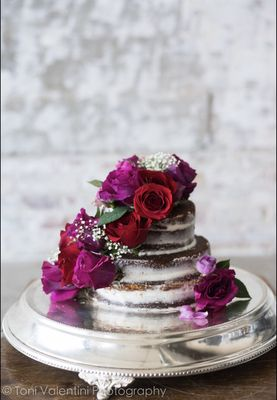sushi: (40, 151, 240, 334)
